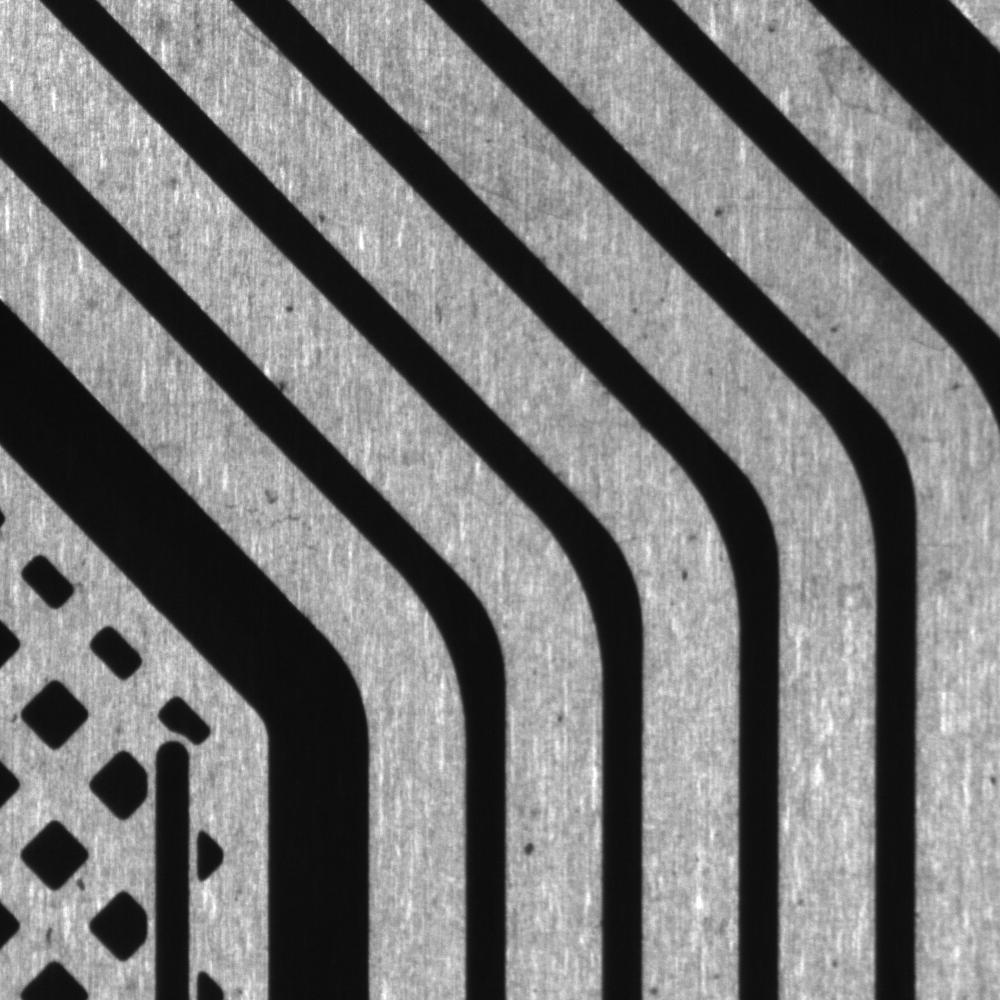Discolor: (800, 27, 923, 147)
Etching: (235, 480, 306, 533), (511, 829, 554, 866), (40, 915, 67, 957), (310, 205, 348, 232), (269, 368, 295, 397), (70, 873, 93, 896)
Pinhole: (672, 561, 701, 591), (760, 12, 785, 39), (547, 705, 571, 731), (708, 196, 730, 224), (644, 977, 667, 1000), (277, 301, 306, 319), (792, 885, 811, 912), (625, 300, 646, 322), (826, 317, 845, 341), (985, 769, 1000, 796), (828, 955, 849, 973)
Scar: (199, 57, 326, 126), (468, 171, 587, 230), (734, 191, 824, 221), (906, 320, 953, 359)
